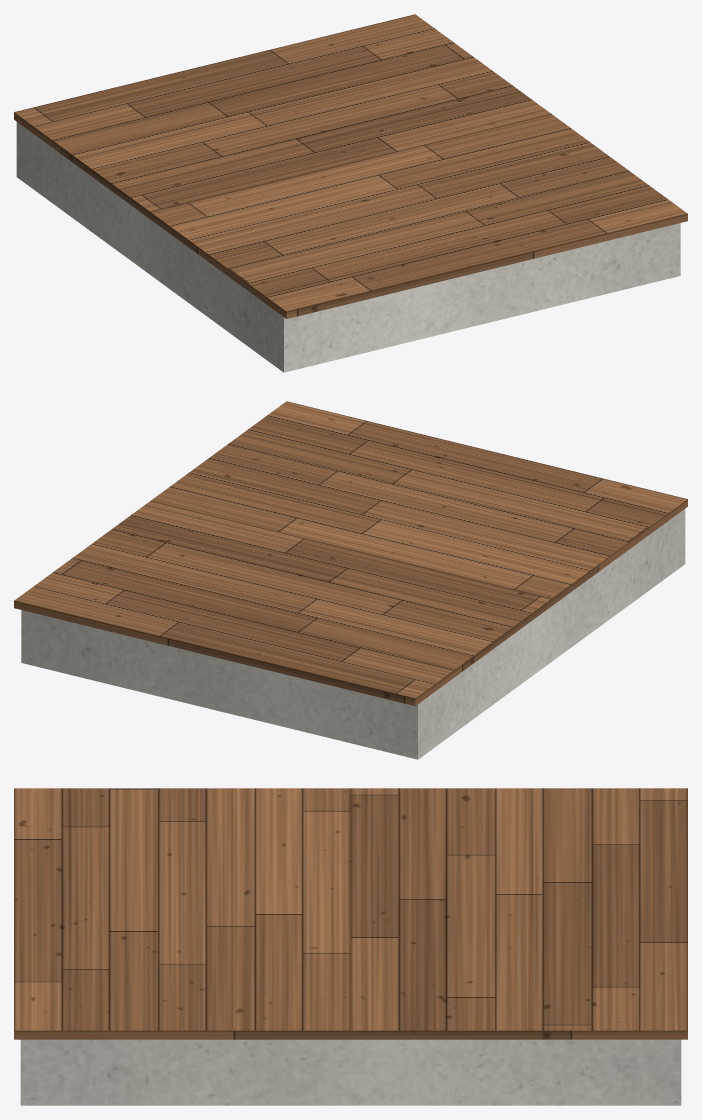
File: floor_floor_u_e1000.glb
3 renders of one model, top to bottom at view 1: azimuth 30°, elevation 25°; view 2: azimuth 150°, elevation 25°; view 3: azimuth 270°, elevation 25°, orthographic. The views are drawn at different scales.
Visible parts, largest first — view 1: floor_floor_u_e1000_floor, floor_floor_u_e1000_plaster; view 2: floor_floor_u_e1000_floor, floor_floor_u_e1000_plaster; view 3: floor_floor_u_e1000_floor, floor_floor_u_e1000_plaster.
Boxes of the visible parts, x1,y1,x2,y2 form: floor_floor_u_e1000_floor: (14, 14, 687, 318); floor_floor_u_e1000_plaster: (16, 122, 680, 372); floor_floor_u_e1000_floor: (14, 401, 687, 705); floor_floor_u_e1000_plaster: (21, 509, 685, 759); floor_floor_u_e1000_floor: (14, 788, 687, 1039); floor_floor_u_e1000_plaster: (20, 1039, 681, 1105).
Size of the model in its own units: 1.7 by 0.255 by 2.
2 materials, 2 textured.
